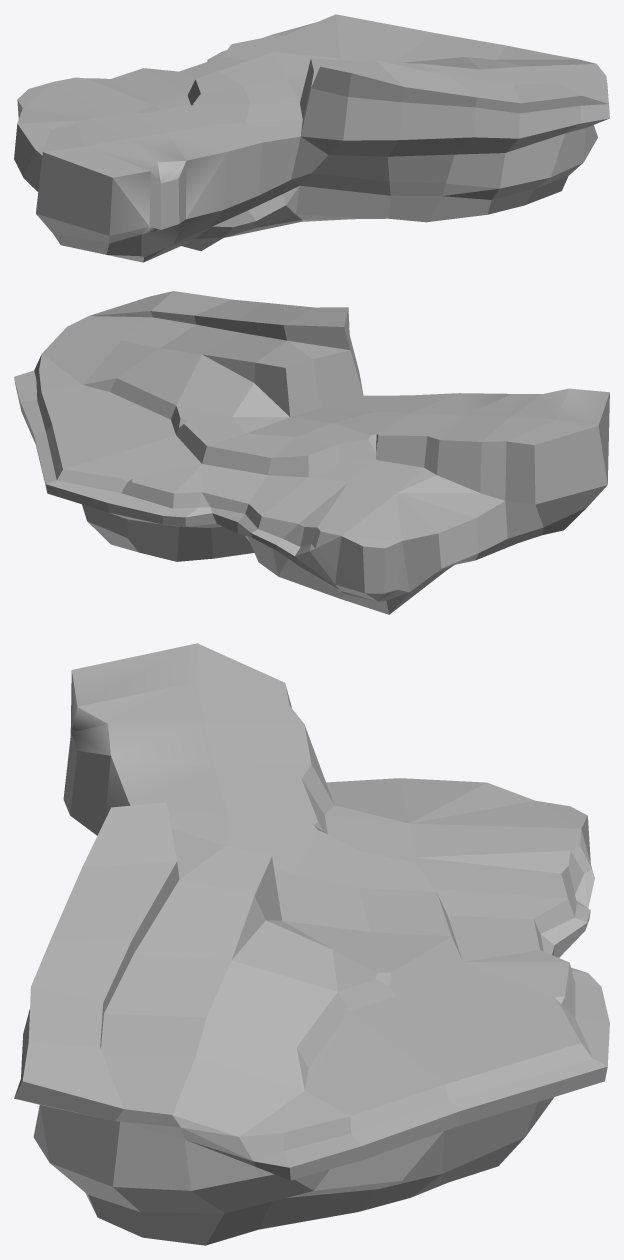
File: EA03_Environment_Rock_Flat_04c.glb
The picture shows the model from 3 angles, top to bottom: view 1: azimuth 30°, elevation 25°; view 2: azimuth 150°, elevation 25°; view 3: azimuth 270°, elevation 25°; orthographic projection. The views are drawn at different scales.
Visible parts, largest first — view 1: EA03_Environment_Rock_Flat_04c; view 2: EA03_Environment_Rock_Flat_04c; view 3: EA03_Environment_Rock_Flat_04c.
Boxes of the visible parts, x1=… form: EA03_Environment_Rock_Flat_04c: x1=14, y1=14, x2=609, y2=262; EA03_Environment_Rock_Flat_04c: x1=14, y1=291, x2=609, y2=614; EA03_Environment_Rock_Flat_04c: x1=14, y1=643, x2=609, y2=1245.
Bounding box in the file's own units: 19.62 × 6.31 × 11.51.
Materials: 1 (1 with a texture image).
